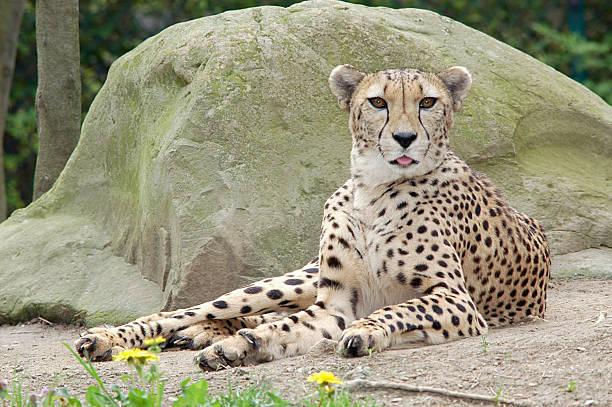cheetah: (317, 45, 492, 196)
